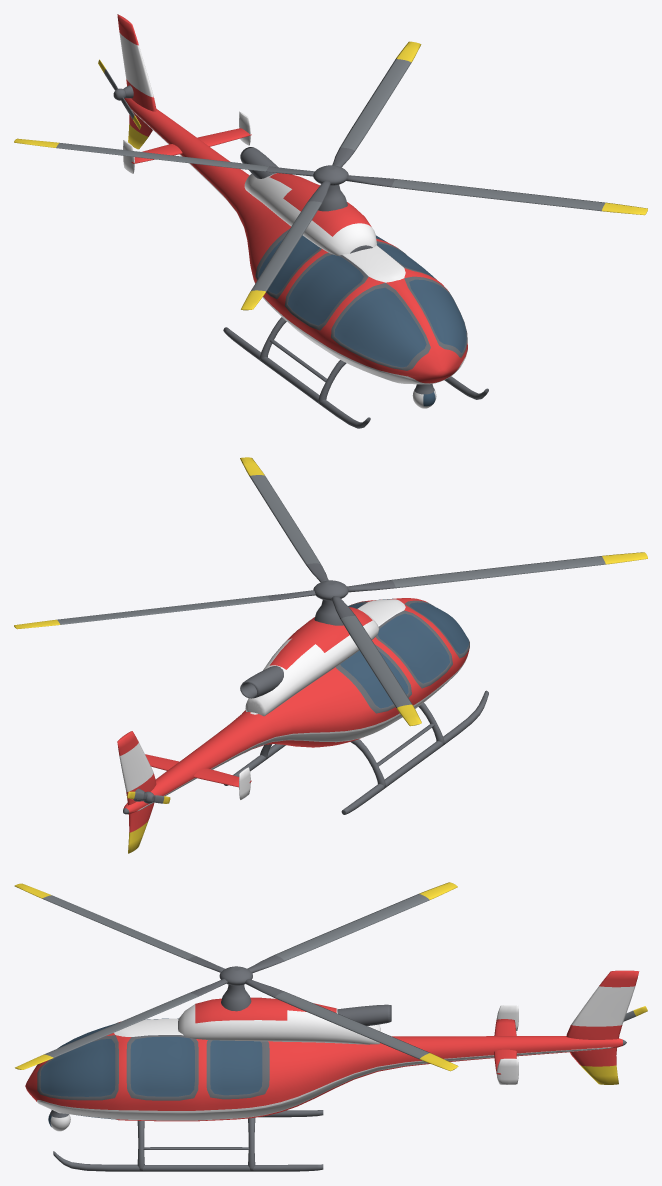
The model's file is Helicopter.fbx.
3 renders of one model, top to bottom at view 1: azimuth 30°, elevation 25°; view 2: azimuth 150°, elevation 25°; view 3: azimuth 270°, elevation 25°, orthographic. The views are drawn at different scales.
Parts seen in each view (by area): view 1: Body, MainRotor; view 2: Body, MainRotor; view 3: Body, MainRotor.
Boxes of the visible parts, x1,y1,x2,y2 form: Body: [117, 14, 488, 428]; MainRotor: [14, 41, 647, 310]; Body: [117, 598, 488, 853]; MainRotor: [14, 457, 647, 726]; Body: [25, 970, 639, 1171]; MainRotor: [14, 882, 458, 1071].
Bounding box in the file's own units: 725 × 316 × 1033.
